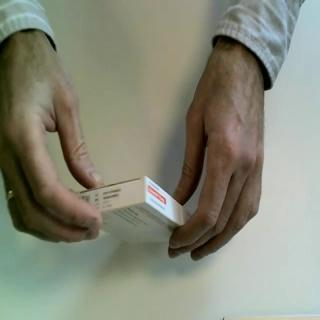dolcontin10mg: (68, 174, 194, 246)
